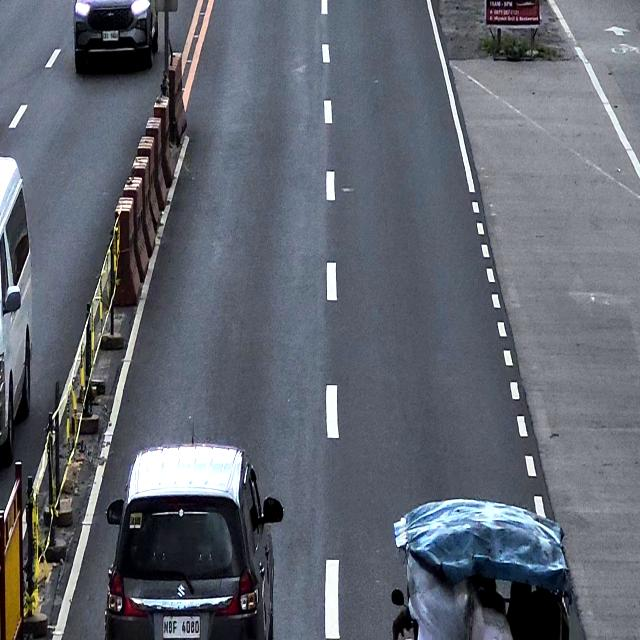Car: (104, 443, 283, 640), (0, 154, 33, 456), (73, 0, 158, 73)
License-Plate: (161, 613, 201, 638), (102, 29, 119, 41)
Tricycle: (390, 497, 573, 639)
